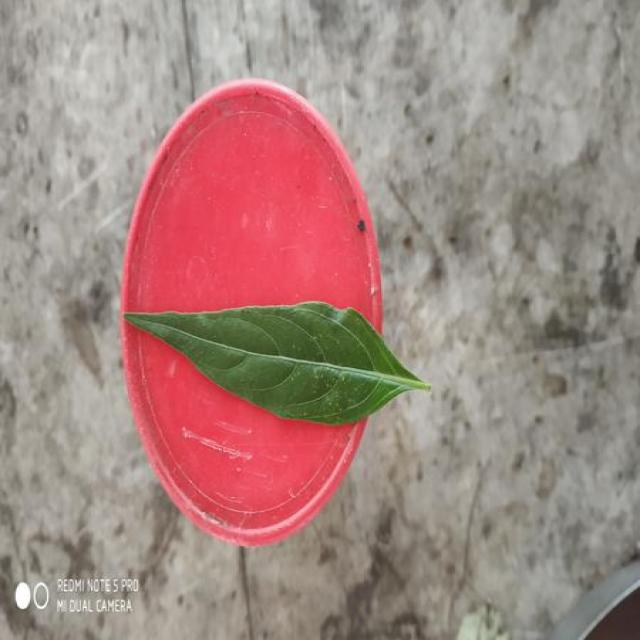Nelavembu: (123, 301, 430, 424)
